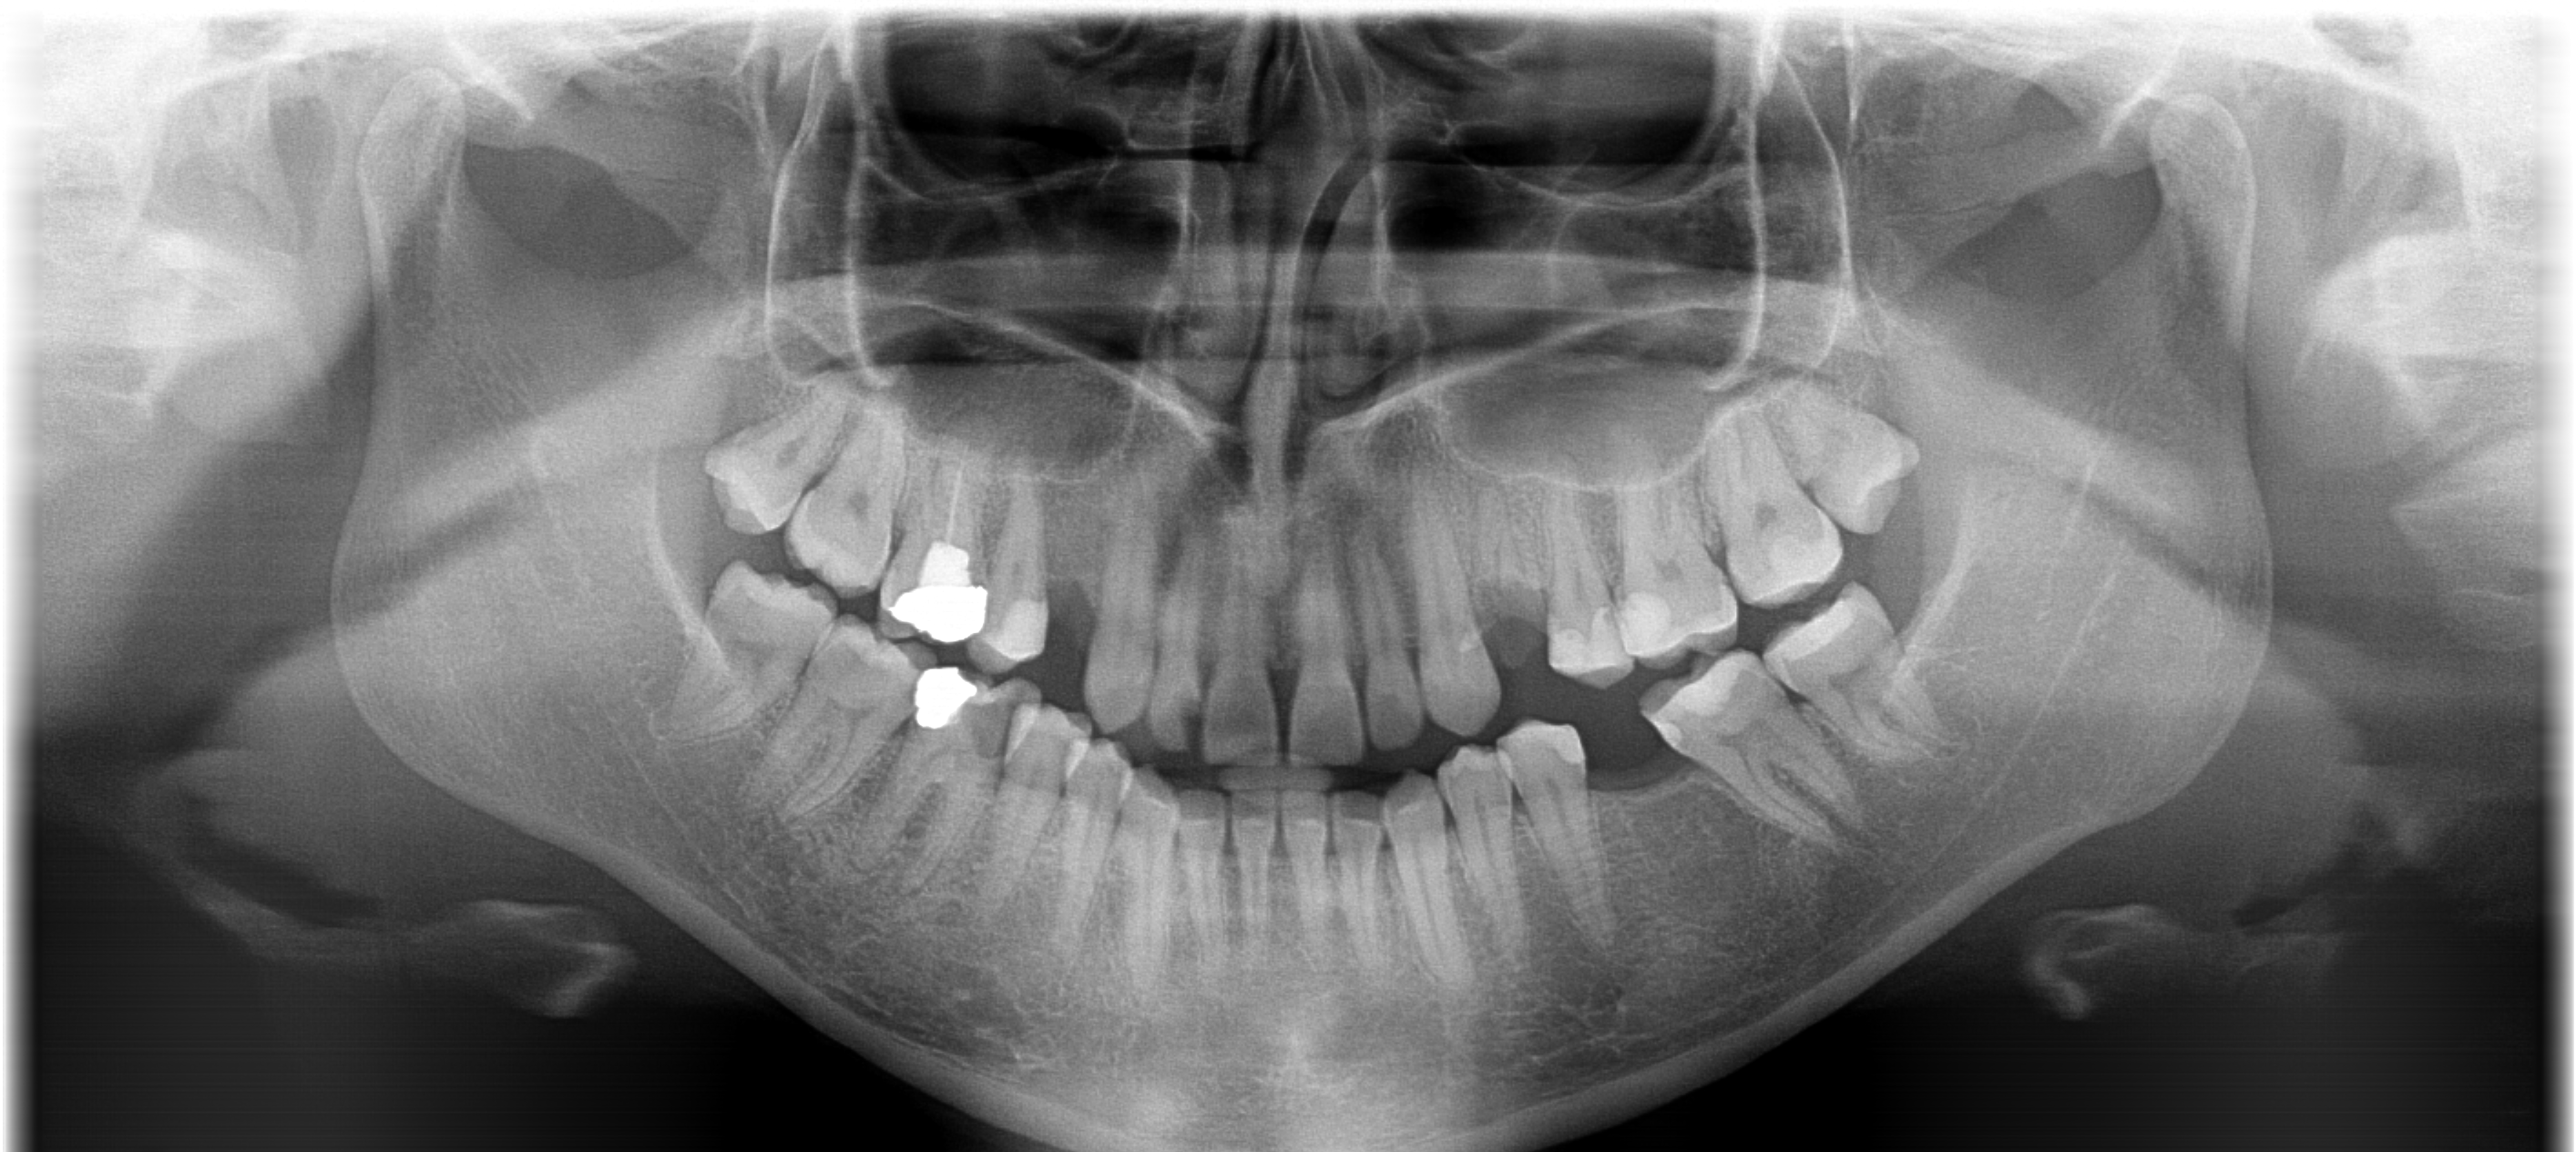cordal: (1753, 574, 1978, 771), (1745, 373, 1989, 552), (644, 541, 848, 749), (664, 352, 843, 542)
fractura: (1137, 629, 1219, 761)
zona_dentula: (1572, 700, 1766, 902), (1027, 490, 1106, 702)
